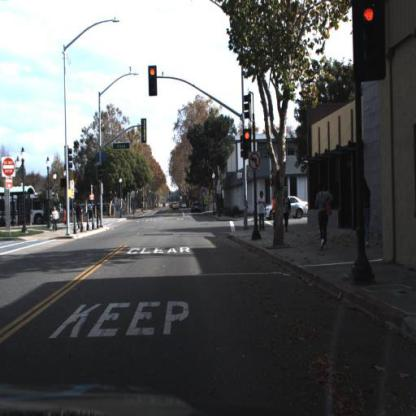car: (263, 195, 309, 221)
pedestrian: (314, 182, 334, 255), (357, 179, 375, 247), (317, 185, 331, 246), (282, 191, 293, 234), (257, 192, 267, 232), (49, 204, 61, 235), (76, 200, 85, 233)
trafficLight-Red: (352, 1, 389, 86), (242, 130, 253, 161), (148, 66, 158, 97), (245, 131, 252, 157)
truck: (3, 194, 54, 228)
